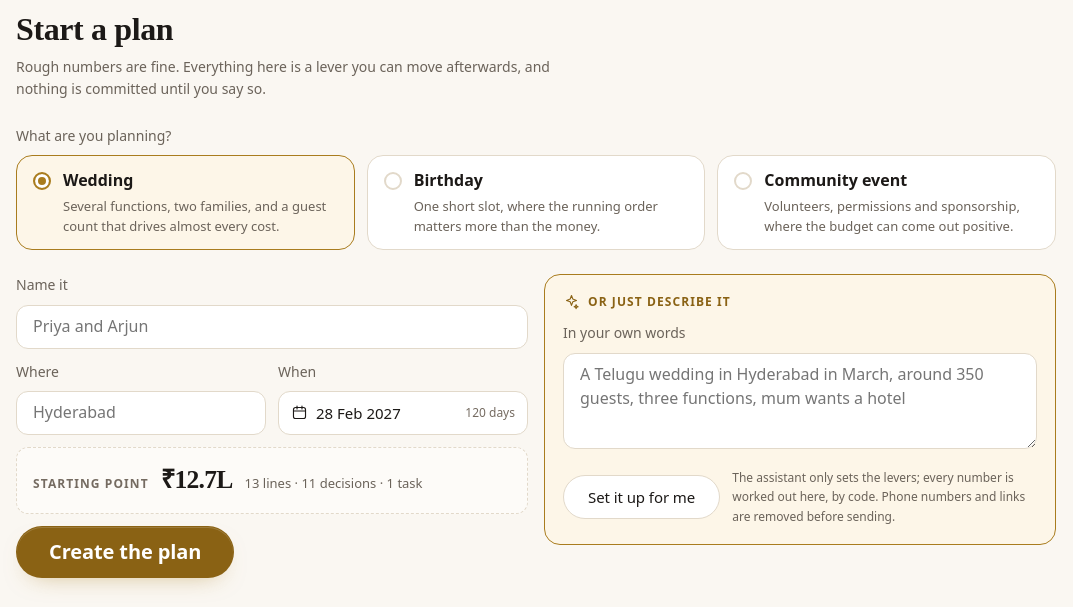
NewPlanPage › fills the form from what the assistant understood
Type "A wedding in Hyderabad for about 420 people" into the text box labelled "In your own words" at (800, 401), box [563, 353, 1037, 449]
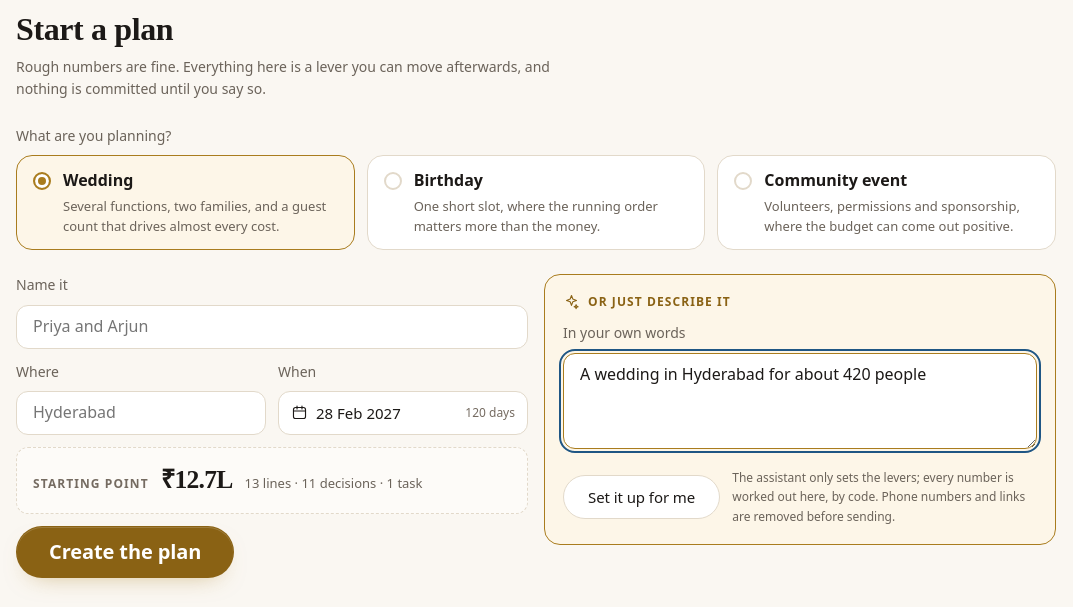
Click the button "Set it up for me" at (642, 497), box [563, 475, 720, 519]
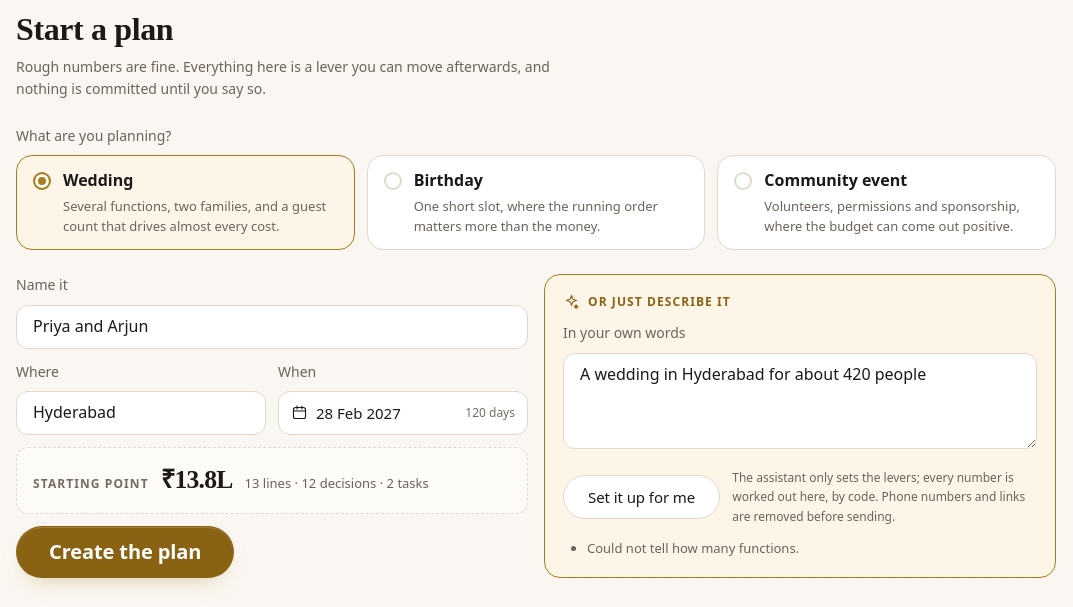
Check: the field showing "Priya and Arjun" is shown, box [16, 305, 528, 349]
Check: the list item "Could not tell how many functions." is shown, box [587, 539, 799, 557]
